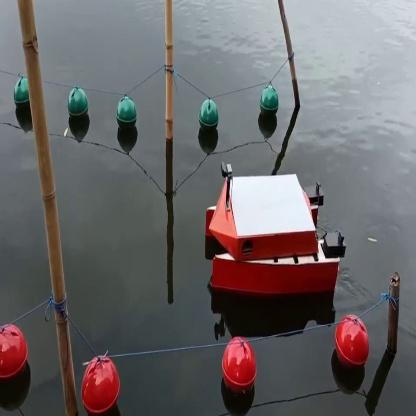green_buoy: (68, 82, 88, 128), (256, 82, 278, 122), (196, 99, 218, 137), (114, 96, 136, 134), (12, 78, 28, 115)
red_buoy: (78, 356, 122, 414), (222, 340, 254, 394), (334, 315, 366, 368), (0, 329, 27, 380)
